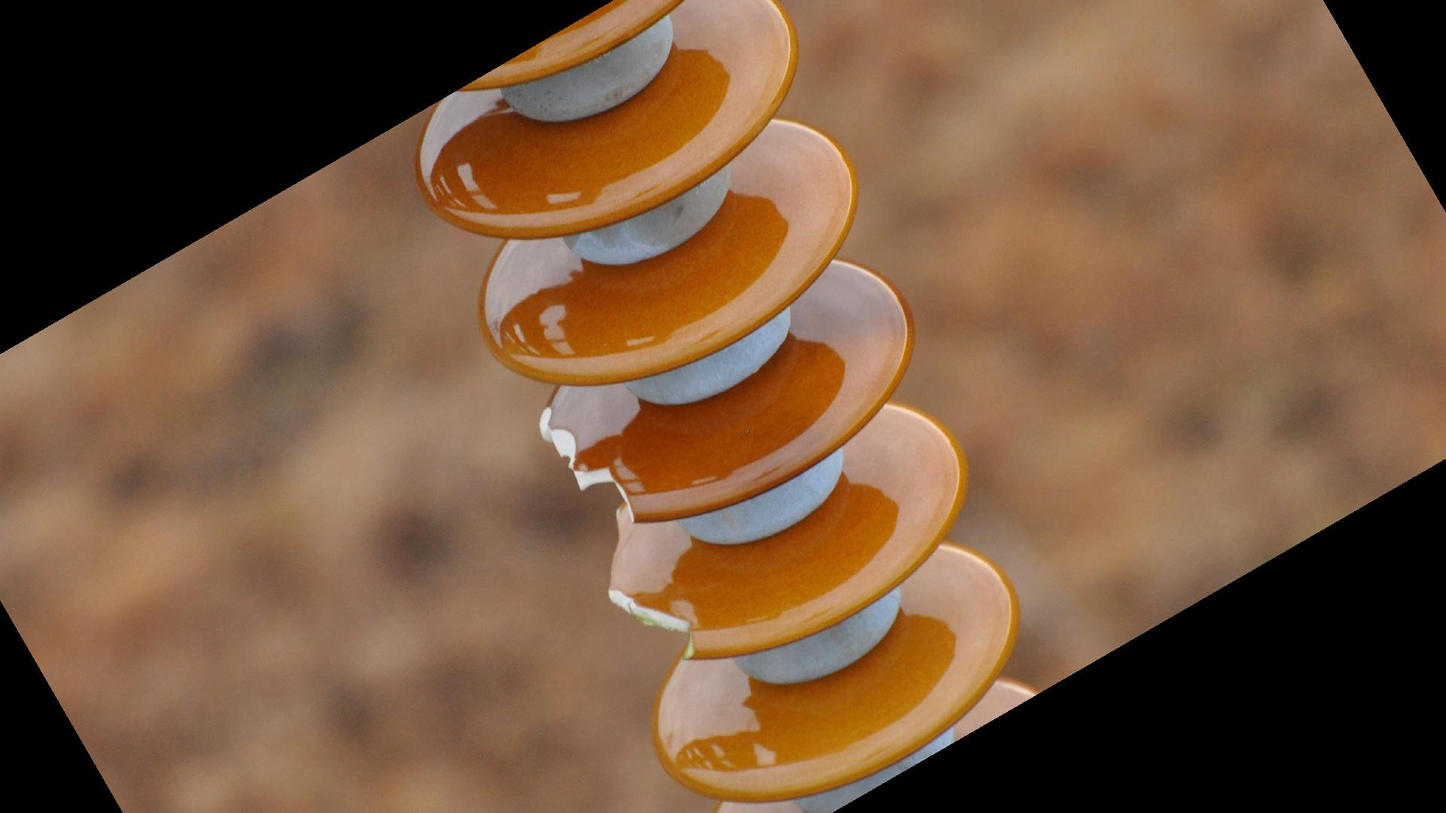insulator: (404, 1, 1046, 813)
insulator_breakage: (596, 504, 706, 665), (530, 397, 648, 529)
